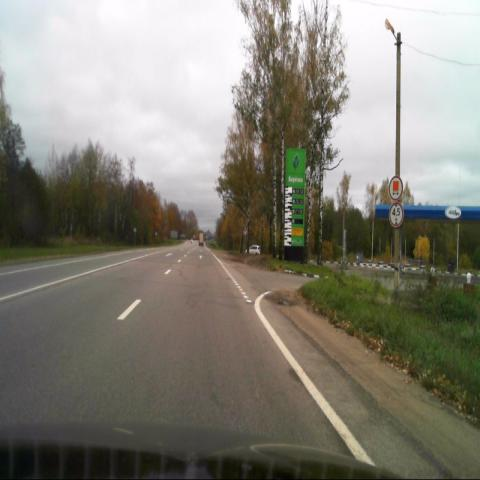3_13: (389, 202, 404, 228)
3_32: (388, 176, 404, 202)
